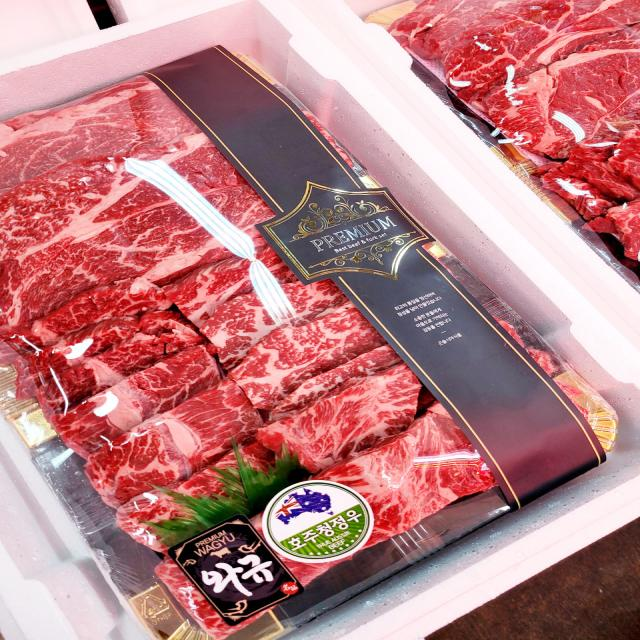beef: (52, 90, 486, 564), (443, 4, 633, 176)
